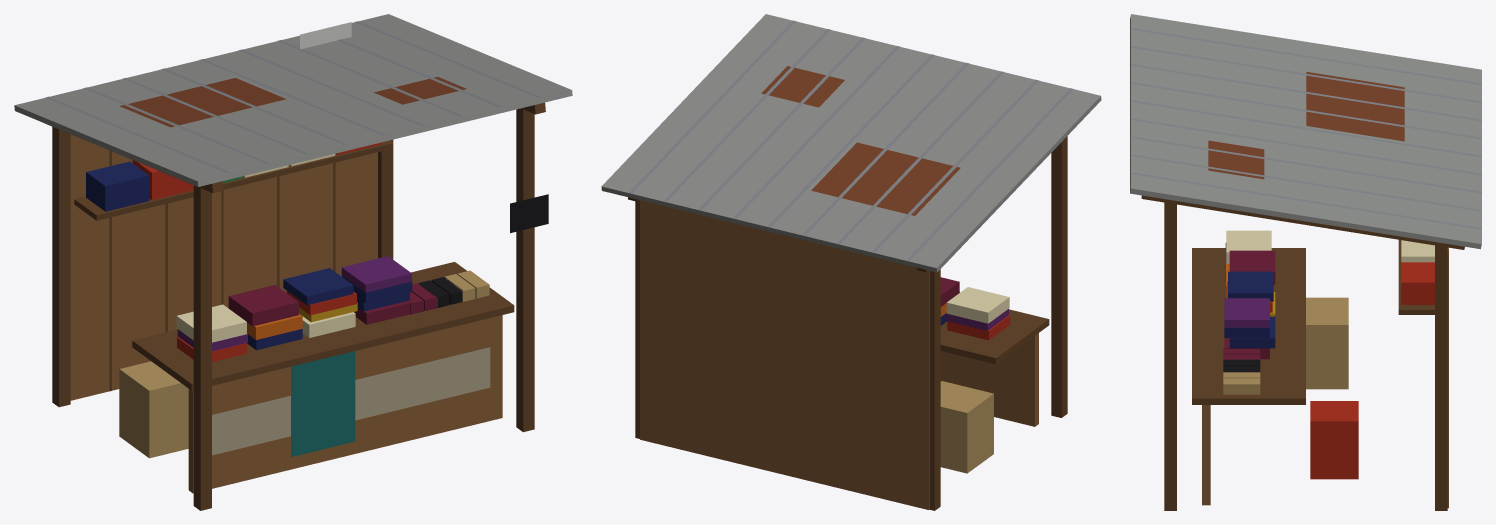
Rendered from prop_market-stall.f679fa6cae38.glb.
3 renders of one model, left to right at view 1: azimuth 30°, elevation 25°; view 2: azimuth 150°, elevation 25°; view 3: azimuth 270°, elevation 25°, orthographic. The views are drawn at different scales.
Visible parts, largest first — view 1: body; view 2: body; view 3: body.
Part boxes in pixels (box(x1,y1,x2,y2)): body: box(14, 14, 572, 510); body: box(601, 14, 1101, 510); body: box(1130, 14, 1481, 510).
Size of the model in its own units: 2.9 by 2.57 by 2.47.
